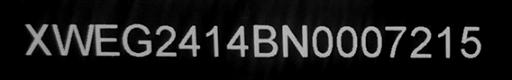letter: (50, 20, 98, 58), (119, 20, 155, 59), (18, 20, 54, 58), (248, 20, 282, 60), (454, 22, 486, 60), (280, 20, 310, 60), (332, 20, 362, 60), (94, 19, 122, 59), (223, 23, 251, 61), (152, 21, 180, 57), (382, 22, 408, 60), (408, 23, 434, 61), (178, 21, 202, 61), (202, 21, 226, 59), (432, 23, 456, 61), (310, 24, 334, 60), (360, 24, 384, 60)
